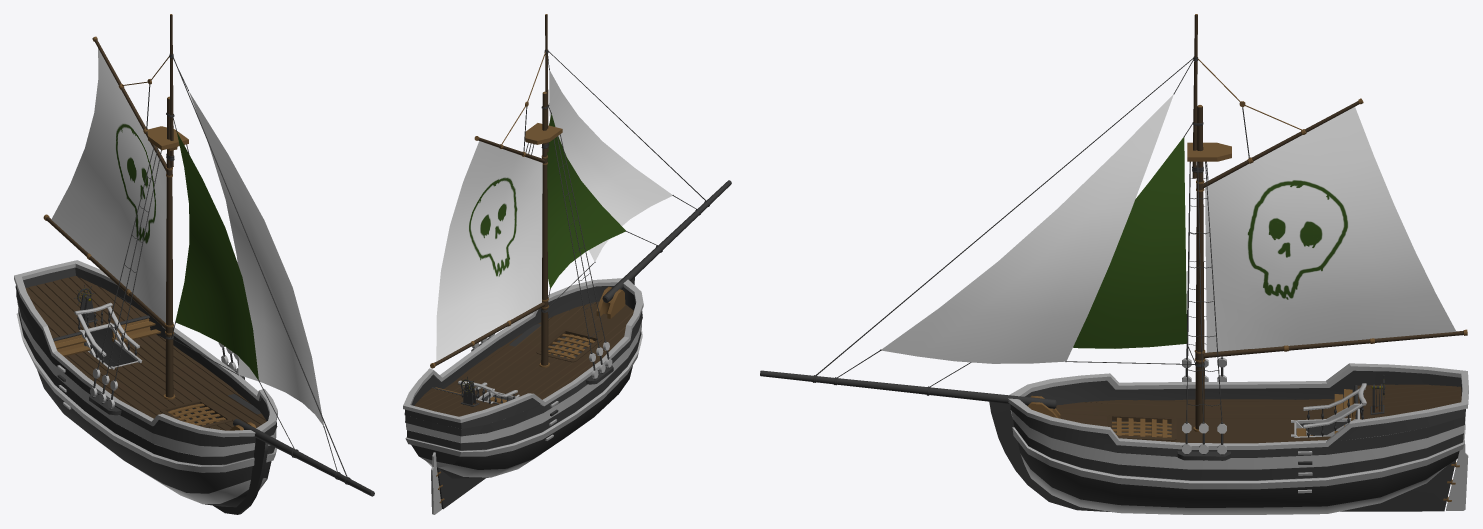
Rendered from Ship_Enemy.fbx.
3 renders of one model, left to right at view 1: azimuth 30°, elevation 25°; view 2: azimuth 150°, elevation 25°; view 3: azimuth 270°, elevation 25°, orthographic. The views are drawn at different scales.
Visible parts, largest first — view 1: sails, Main hull, Decks; view 2: sails, Main hull, Decks; view 3: sails, Main hull, Decks.
Boxes of the visible parts, x1,y1,x2,y2 form: sails: (51, 48, 323, 425); Main hull: (14, 14, 374, 514); Decks: (25, 276, 266, 430); sails: (436, 70, 672, 361); Main hull: (403, 14, 731, 514); Decks: (414, 301, 633, 416); sails: (881, 94, 1456, 363); Main hull: (760, 14, 1468, 514); Decks: (1056, 384, 1461, 443).
Bounding box in the file's own units: 553 × 1764 × 2280.
